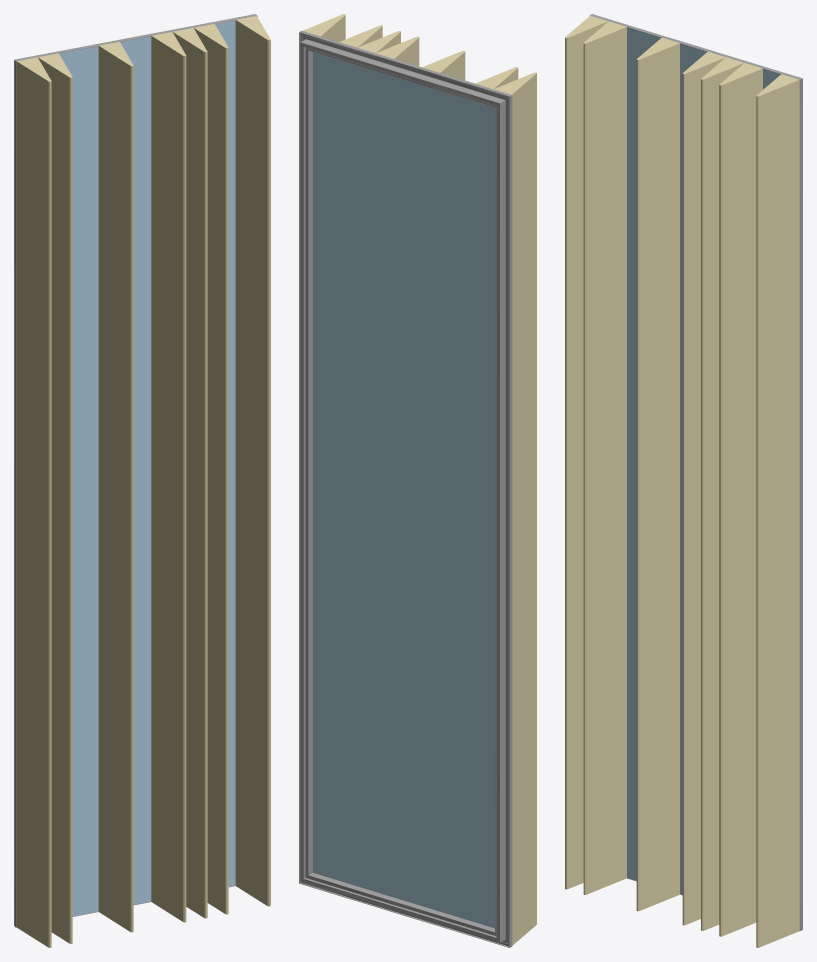
Rendered from h_block.glb.
3 views of the same model, side by side, from view 1: azimuth 30°, elevation 25°; view 2: azimuth 150°, elevation 25°; view 3: azimuth 330°, elevation 25° (orthographic).
Size of the model in its own units: 0.7872 by 2.85 by 0.2826.
